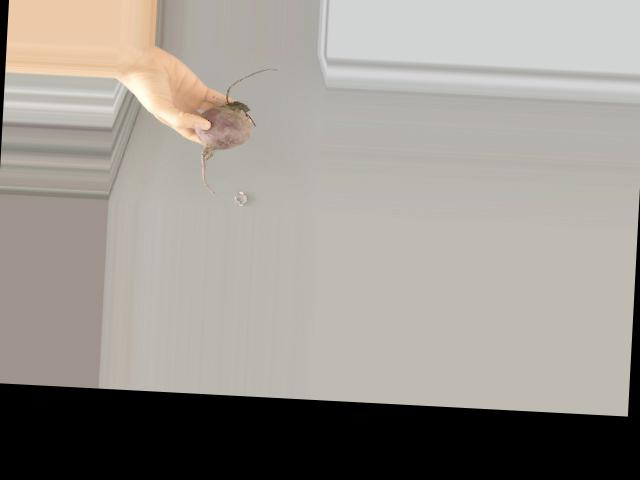beet: (191, 64, 278, 197)
